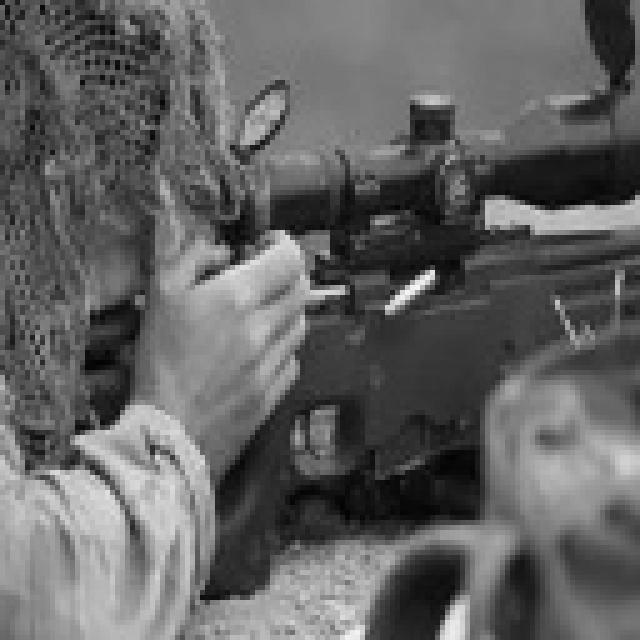Rifle: (131, 10, 640, 621)
